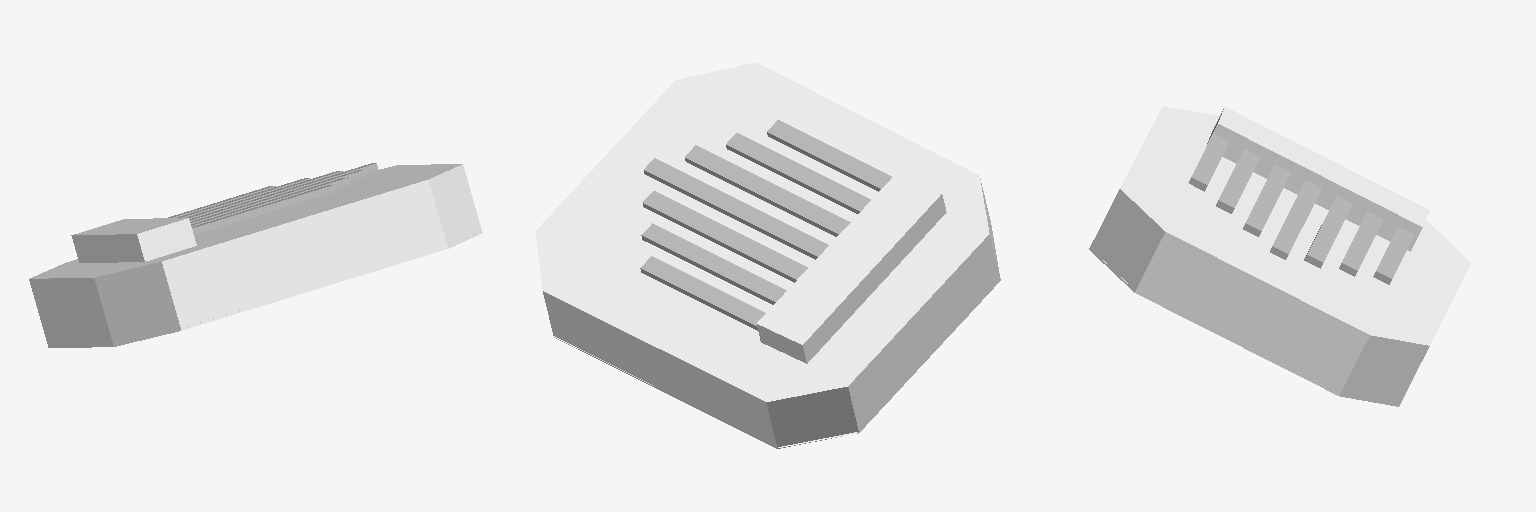
The model's file is thumbpiano.obj.
3 views of the same model, side by side, from view 1: azimuth 30°, elevation 25°; view 2: azimuth 150°, elevation 25°; view 3: azimuth 270°, elevation 25° (orthographic).
Parts seen in each view (by area): view 1: PianoBase, PianoHead, do, fa, mi, re; view 2: PianoBase, PianoHead, fa, mi, so, re, la, ti, do; view 3: PianoBase, PianoHead, fa, so, mi, la, re, ti, do.
Boxes of the visible parts, box(x1,y1,x2,y2) form: PianoBase: box(29, 164, 482, 347); PianoHead: box(71, 218, 196, 262); do: box(192, 185, 336, 234); fa: box(189, 163, 378, 221); mi: box(190, 170, 364, 223); re: box(191, 177, 349, 226); PianoBase: box(536, 62, 1000, 448); PianoHead: box(757, 173, 946, 363); fa: box(644, 158, 828, 259); mi: box(685, 145, 850, 236); so: box(642, 191, 807, 282); re: box(726, 133, 870, 213); la: box(641, 223, 786, 304); ti: box(640, 256, 765, 330); do: box(767, 120, 891, 191); PianoBase: box(1089, 107, 1470, 406); PianoHead: box(1206, 107, 1429, 251); fa: box(1270, 180, 1321, 259); so: box(1304, 196, 1352, 268); mi: box(1243, 164, 1290, 236); la: box(1339, 211, 1383, 276); re: box(1216, 149, 1259, 213); ti: box(1373, 227, 1413, 284); do: box(1189, 133, 1229, 191).
Bounding box in the file's own units: 0.7309 × 0.4101 × 0.6312.